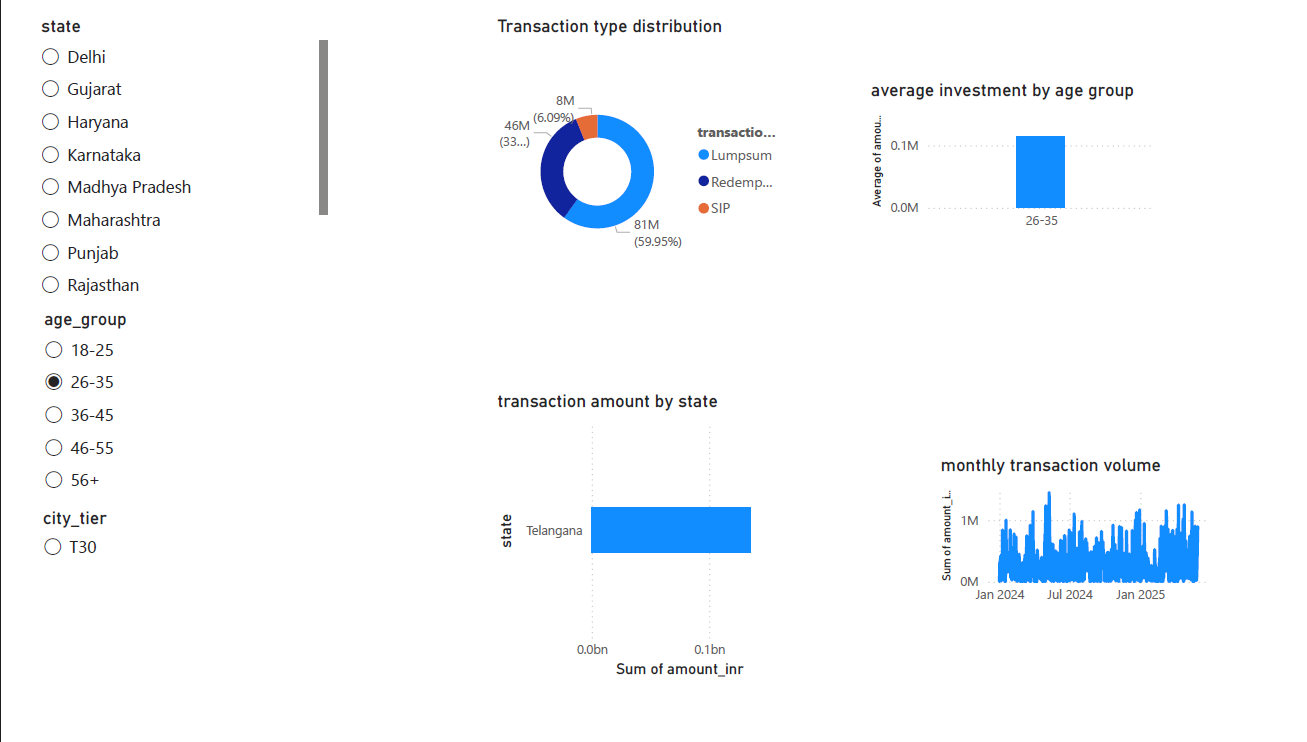

The page's visual inventory and layout, read from the dashboard file:
{"tool":"powerbi","page":{"name":"Investor analytics","canvas":[1280,720],"ordinal":2},"visuals":[{"type":"clusteredBarChart","title":"transaction  amount by state","fields":{"Category":["investor_transactions.state"],"Y":["Sum(investor_transactions.amount_inr)"]},"box":[441.7,355.8,282.2,278.1],"z":0},{"type":"donutChart","title":"Transaction type distribution","fields":{"Category":["investor_transactions.transaction_type"],"Y":["Sum(investor_transactions.amount_inr)"]},"box":[441.7,0,282.2,278.1],"z":1000},{"type":"clusteredColumnChart","title":"average investment by age group","fields":{"Category":["investor_transactions.age_group"],"Y":["Avg(investor_transactions.amount_inr)"]},"box":[797.4,61.3,278.1,151.3],"z":2000},{"type":"lineChart","title":"monthly transaction volume","fields":{"Y":["Sum(investor_transactions.amount_inr)"],"Category":["investor_transactions.transaction_date"]},"box":[862.9,417.1,278.1,151.3],"z":3000},{"type":"listSlicer","fields":{"Values":["investor_transactions.state"]},"box":[9,0,282,278],"z":3001},{"type":"listSlicer","fields":{"Values":["investor_transactions.age_group"]},"box":[12.3,278.1,282.2,278.1],"z":3002},{"type":"listSlicer","fields":{"Values":["investor_transactions.city_tier"]},"box":[11.4,467.1,282.9,241.4],"z":3003}]}

Visuals, with their boxes in screenshot pixels (x1, y1, x2, y2), scaled from the page's 1280x720 canvas onto the 1307x742 screenshot:
"transaction  amount by state" clusteredBarChart: 451, 367, 739, 653
"Transaction type distribution" donutChart: 451, 0, 739, 287
"average investment by age group" clusteredColumnChart: 814, 63, 1098, 219
"monthly transaction volume" lineChart: 881, 430, 1165, 586
listSlicer - investor_transactions.state: 9, 0, 297, 286
listSlicer - investor_transactions.age_group: 13, 287, 301, 573
listSlicer - investor_transactions.city_tier: 12, 481, 301, 730
